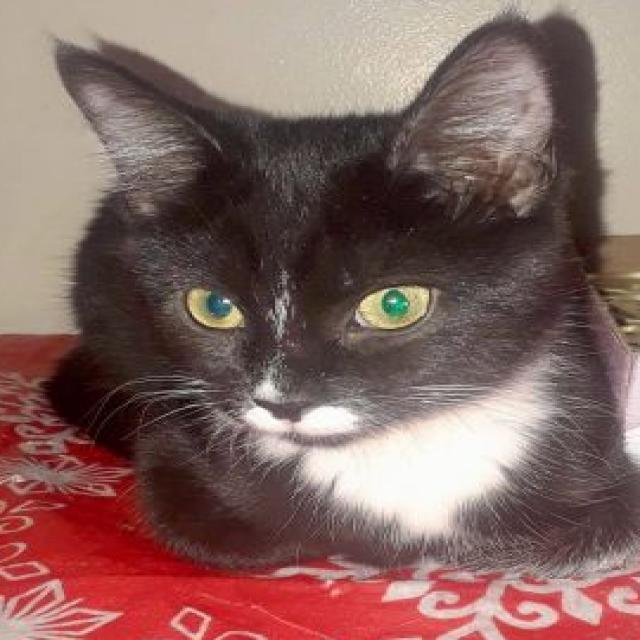Tuxedo: (31, 5, 640, 582)
